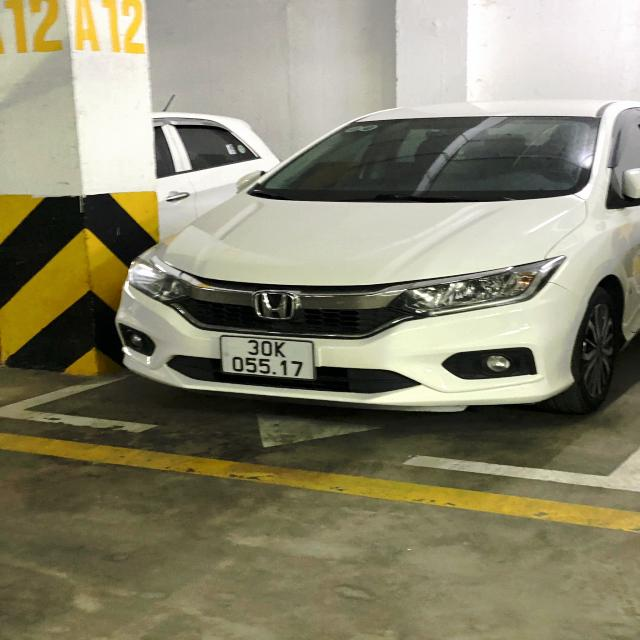license_plate: (219, 336, 319, 383)
